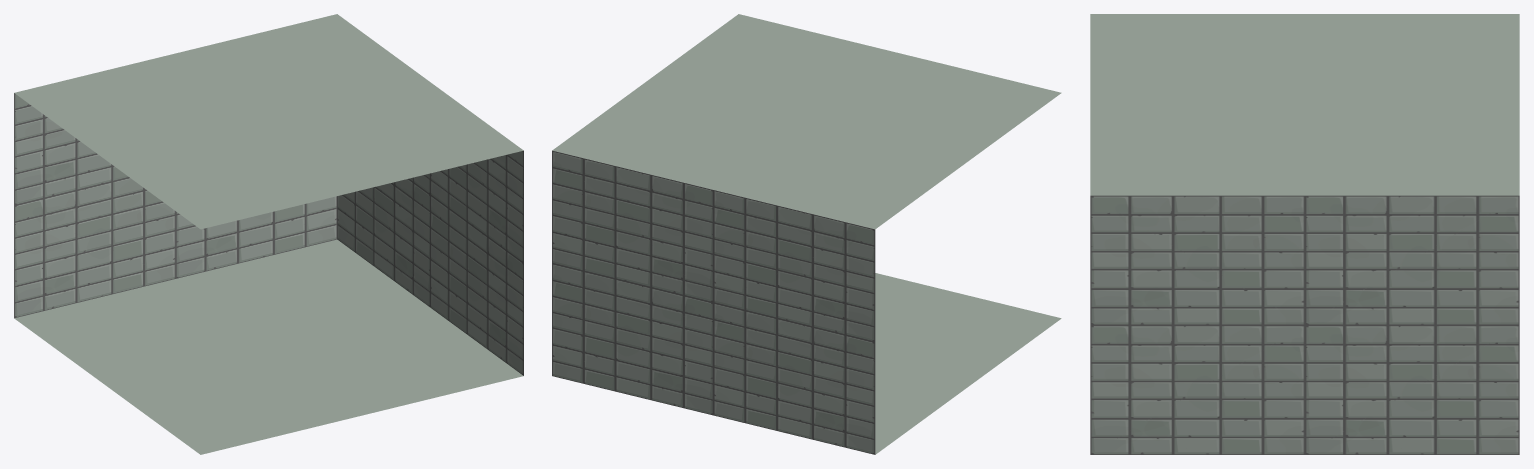
Rendered from Bock_A1(1).fbx.
3 views of the same model, side by side, from view 1: azimuth 30°, elevation 25°; view 2: azimuth 150°, elevation 25°; view 3: azimuth 270°, elevation 25° (orthographic). The views are drawn at different scales.
Parts seen in each view (by area): view 1: Bock_A1; view 2: Bock_A1; view 3: Bock_A1.
Boxes of the visible parts, bbox=[...] form: Bock_A1: bbox=[14, 14, 523, 454]; Bock_A1: bbox=[552, 14, 1061, 454]; Bock_A1: bbox=[1090, 14, 1519, 454].
Size of the model in its own units: 600 by 400 by 600.
